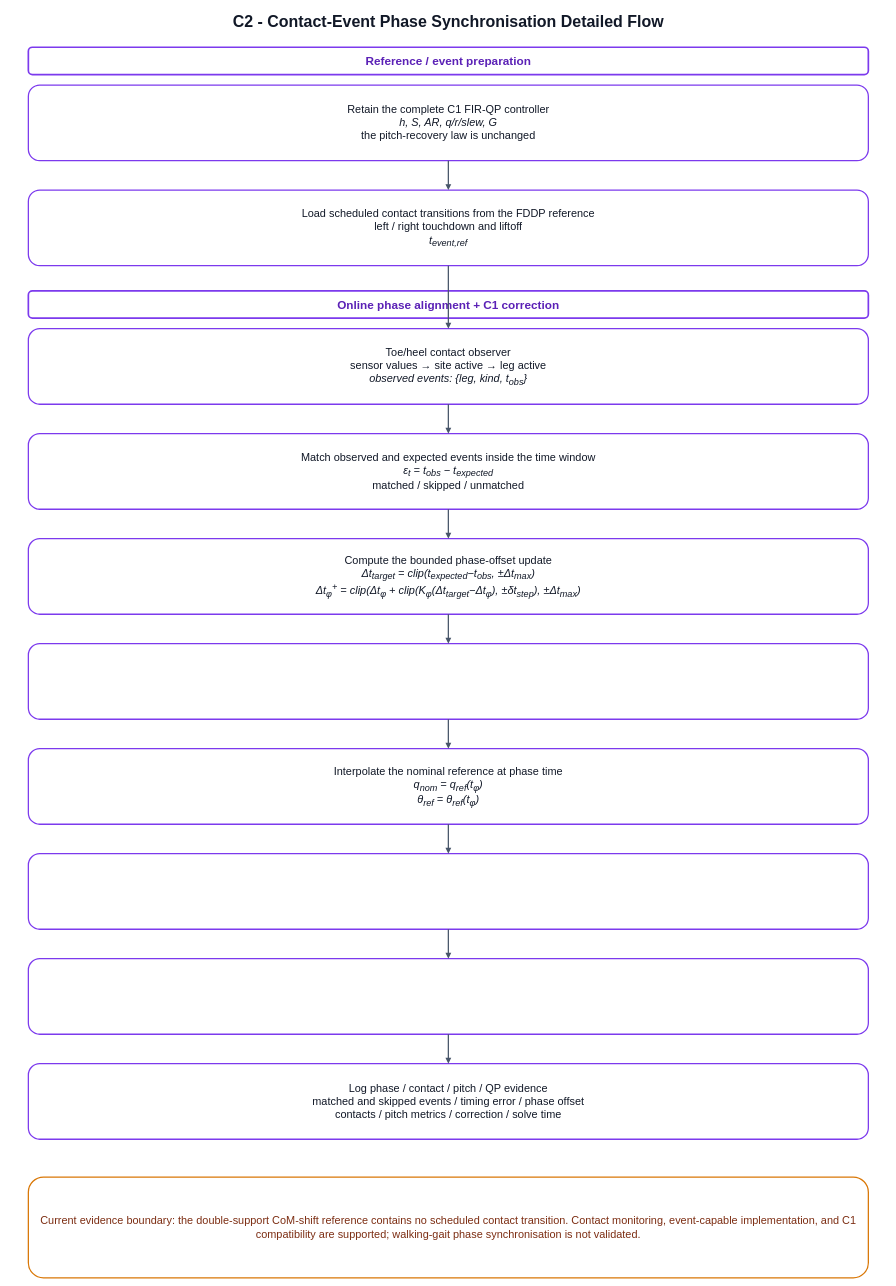
Image size: 896x1286. Some labels were removed from this diagram. The centre of each missing label's shape, as x and y in pixels:
"Form the runtime position command q cmd = q ref (t φ ) + Gα k" goes at point (448, 996).
"Query the phase-aligned reference time t φ = clip(t + Δt φ ,0,T)" goes at point (448, 681).
"Run the unchanged C1 FIR-QP correction e k → E free +SA → A * → α k" goes at point (448, 891).
